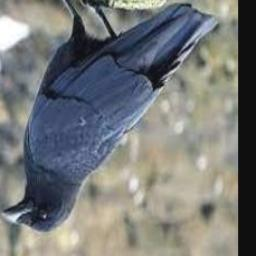Crow: (3, 0, 219, 234)
